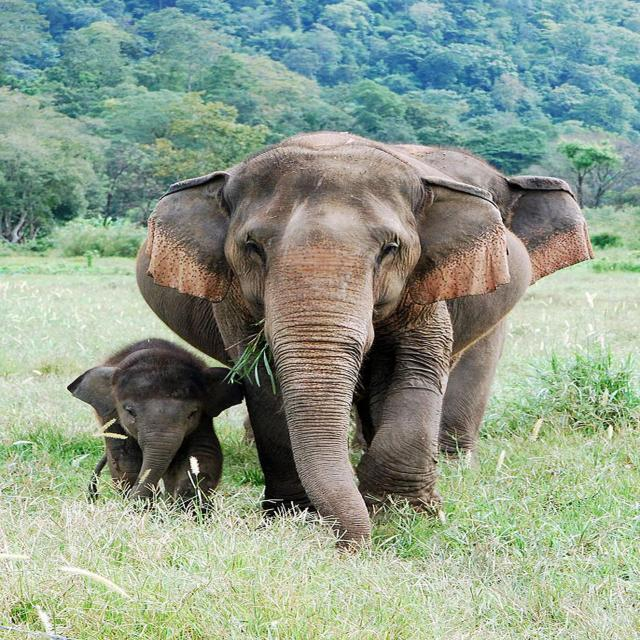Elephant: (141, 134, 594, 529), (52, 320, 251, 518)
